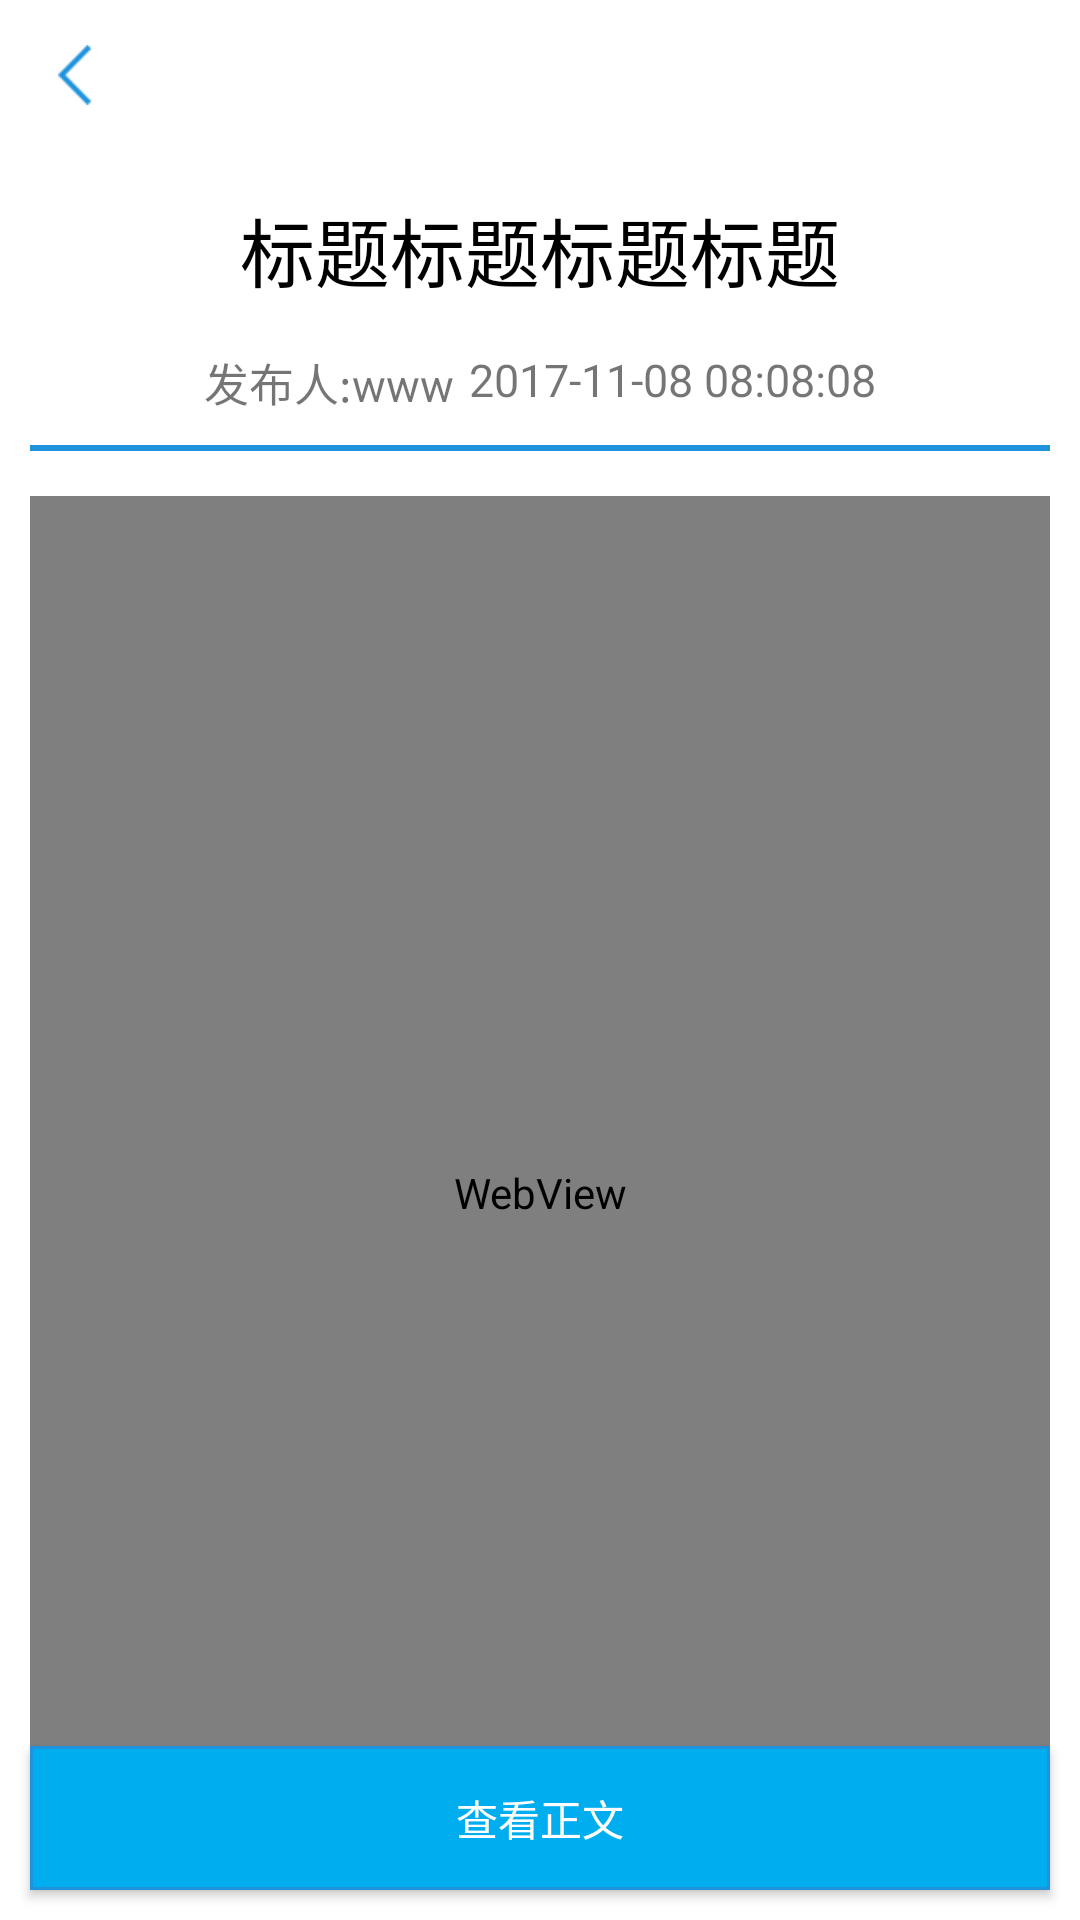

Locate icon controls on the screen. Image size 1080 x 1920, boxes as (x1, y1, x2, y2).
back: (58, 45, 92, 105)
